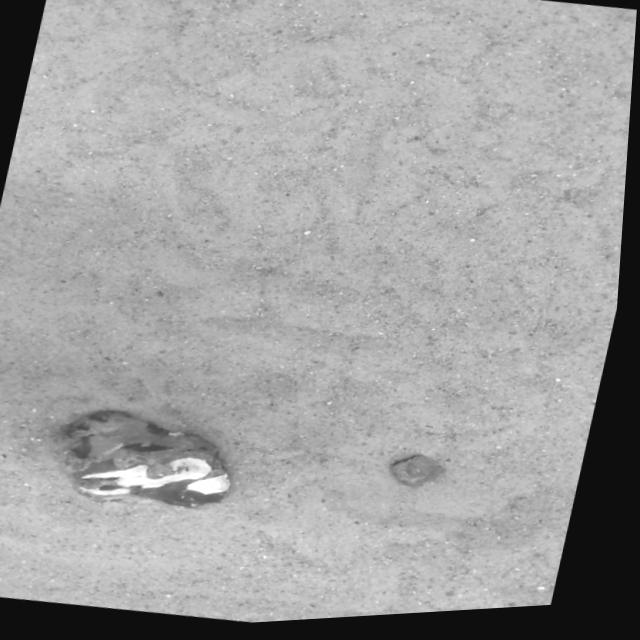rock: (65, 412, 238, 510), (398, 460, 452, 492)
